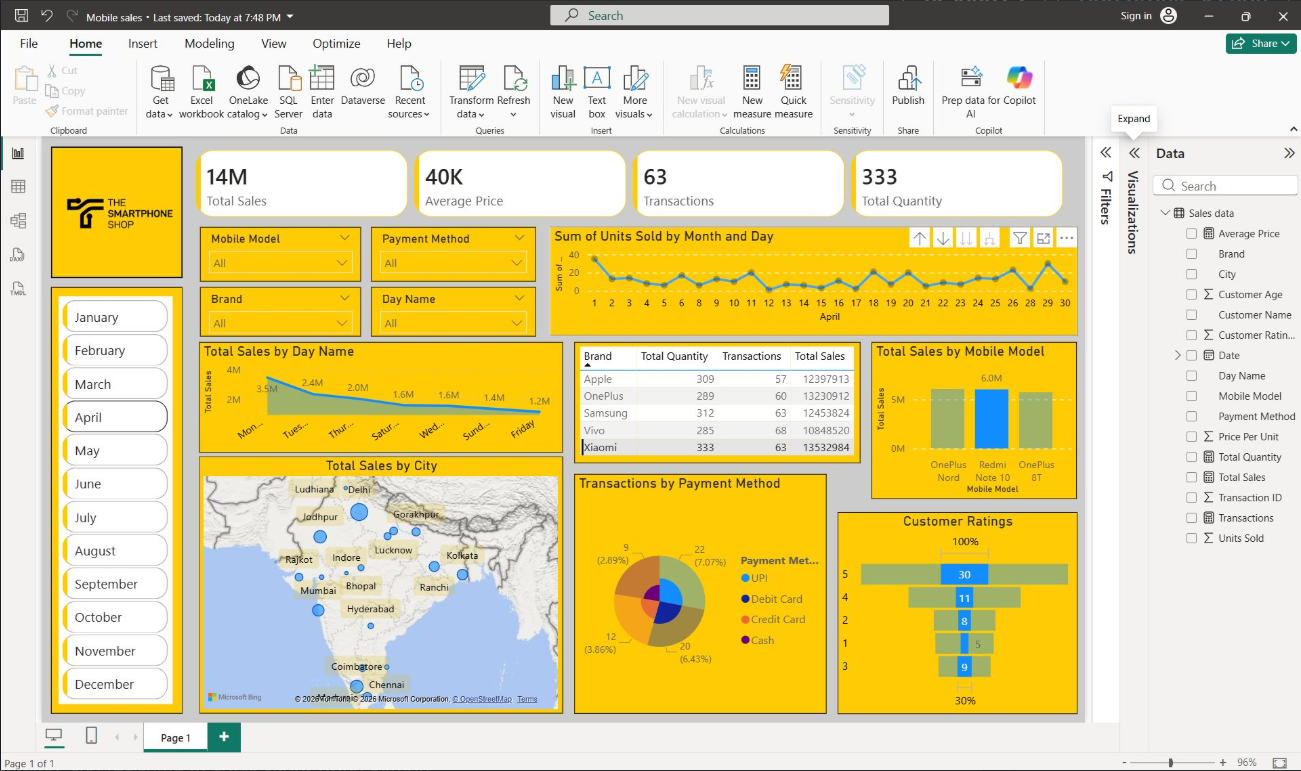

What the dashboard file says about the page in this screenshot:
{"tool":"powerbi","page":{"name":"Page 1","canvas":[1280,720],"ordinal":0},"visuals":[{"type":"image","box":[11,12.3,161.9,161.9],"z":0},{"type":"shape","box":[11,185.2,161.9,524.2],"z":1000},{"type":"listSlicer","fields":{"Values":["Sheet1.Date.Variation.Date Hierarchy.Month"]},"box":[20.6,196.2,140,500.9],"z":2000},{"type":"cardVisual","fields":{"Data":["Sales data.Total Sales","Sales data.Average Price","Sales data.Transactions","Sales data.Total Quantity"]},"box":[172.1,0,1098.8,116.3],"z":3000},{"type":"map","fields":{"Category":["Sales data.City"],"Size":["Sales data.Total Sales"]},"box":[193,393,446.5,316.3],"z":4000},{"type":"lineChart","fields":{"Y":["Sum(Sales data.Units Sold)"],"Category":["Sales data.Date.Variation.Date Hierarchy.Month","Sales data.Date.Variation.Date Hierarchy.Day"]},"box":[623.3,111.6,647.7,133.7],"z":5000},{"type":"clusteredColumnChart","fields":{"Category":["Sales data.Mobile Model"],"Y":["Sales data.Total Sales"]},"box":[1018.6,252.3,252.3,193],"z":6000},{"type":"pieChart","fields":{"Category":["Sales data.Payment Method"],"Y":["Sales data.Transactions"]},"box":[653.5,415.1,309.3,294.2],"z":7000},{"type":"funnel","title":"Customer Ratings ","fields":{"Category":["Sales data.Customer Ratings"],"Y":["CountNonNull(Sales data.Customer Ratings)"]},"box":[976.7,461.6,294.2,247.7],"z":8000},{"type":"areaChart","fields":{"Category":["Sales data.Day Name"],"Y":["Sales data.Total Sales"]},"box":[193,252.3,446.5,136],"z":9000},{"type":"tableEx","fields":{"Values":["Sales data.Brand","Sales data.Total Quantity","Sales data.Transactions","Sales data.Total Sales"]},"box":[653.5,252.3,351.2,148.8],"z":10000},{"type":"slicer","fields":{"Values":["Sales data.Mobile Model"]},"box":[194.2,111.6,197.7,67.4],"z":11000},{"type":"slicer","fields":{"Values":["Sales data.Payment Method"]},"box":[404.7,111.6,202.3,67.4],"z":12000},{"type":"slicer","fields":{"Values":["Sales data.Brand"]},"box":[194.2,184.9,197.7,60.5],"z":13000},{"type":"slicer","fields":{"Values":["Sales data.Day Name"]},"box":[404.7,184.9,202.3,60.5],"z":14000}]}

Visuals, with their boxes on the page's 1280x720 design canvas (x1, y1, x2, y2). These are canvas units, not pixel positions in the 1301x771 screenshot, which may show the page scaled, cropped or inside an application window:
image: (11,12,173,174)
shape: (11,185,173,709)
listSlicer - Sheet1.Date.Variation.Date Hierarchy.Month: (21,196,161,697)
cardVisual - Sales data.Total Sales x Sales data.Average Price: (172,0,1271,116)
map - Sales data.City x Sales data.Total Sales: (193,393,640,709)
lineChart - Sum(Sales data.Units Sold) x Sales data.Date.Variation.Date Hierarchy.Month: (623,112,1271,245)
clusteredColumnChart - Sales data.Mobile Model x Sales data.Total Sales: (1019,252,1271,445)
pieChart - Sales data.Payment Method x Sales data.Transactions: (654,415,963,709)
"Customer Ratings " funnel: (977,462,1271,709)
areaChart - Sales data.Day Name x Sales data.Total Sales: (193,252,640,388)
tableEx - Sales data.Brand x Sales data.Total Quantity: (654,252,1005,401)
slicer - Sales data.Mobile Model: (194,112,392,179)
slicer - Sales data.Payment Method: (405,112,607,179)
slicer - Sales data.Brand: (194,185,392,245)
slicer - Sales data.Day Name: (405,185,607,245)
